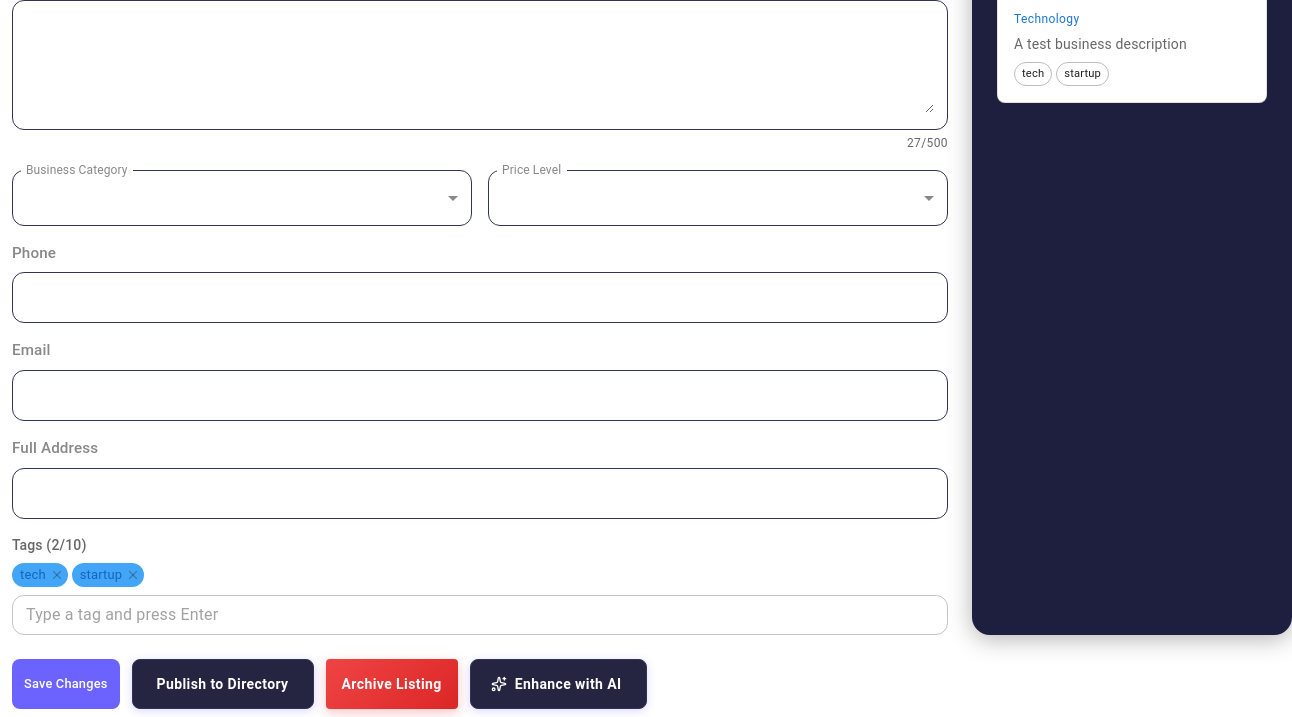
Test case: ListingEditTab › removes a tag when delete is clicked
(page scrolled)
Expected: the number of buttons with test id "tag-chip" is 2, 12,563 -> 68,587; 72,563 -> 144,587
Click the delete button on the first chip
Click the button named "Remove tag". click: x=57, y=575
box: 50,568 -> 64,582
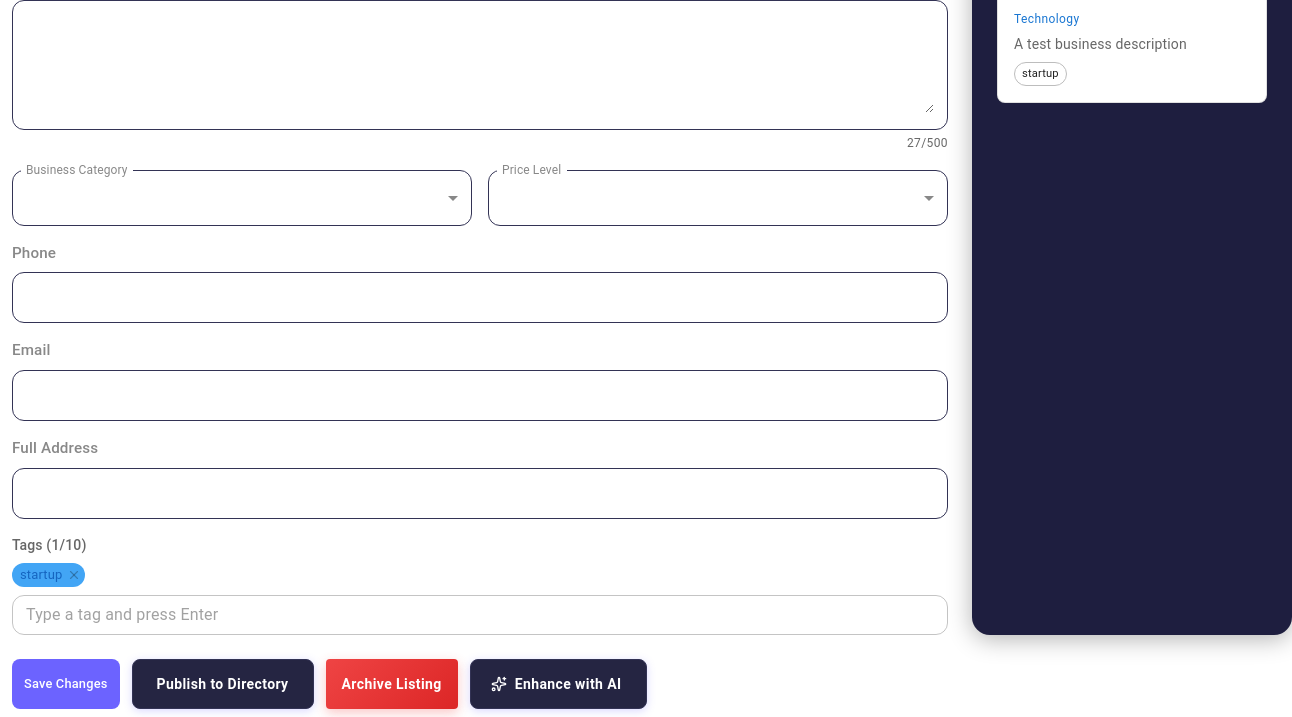
Expected: the number of buttons with test id "tag-chip" is 1, 12,563 -> 84,587
